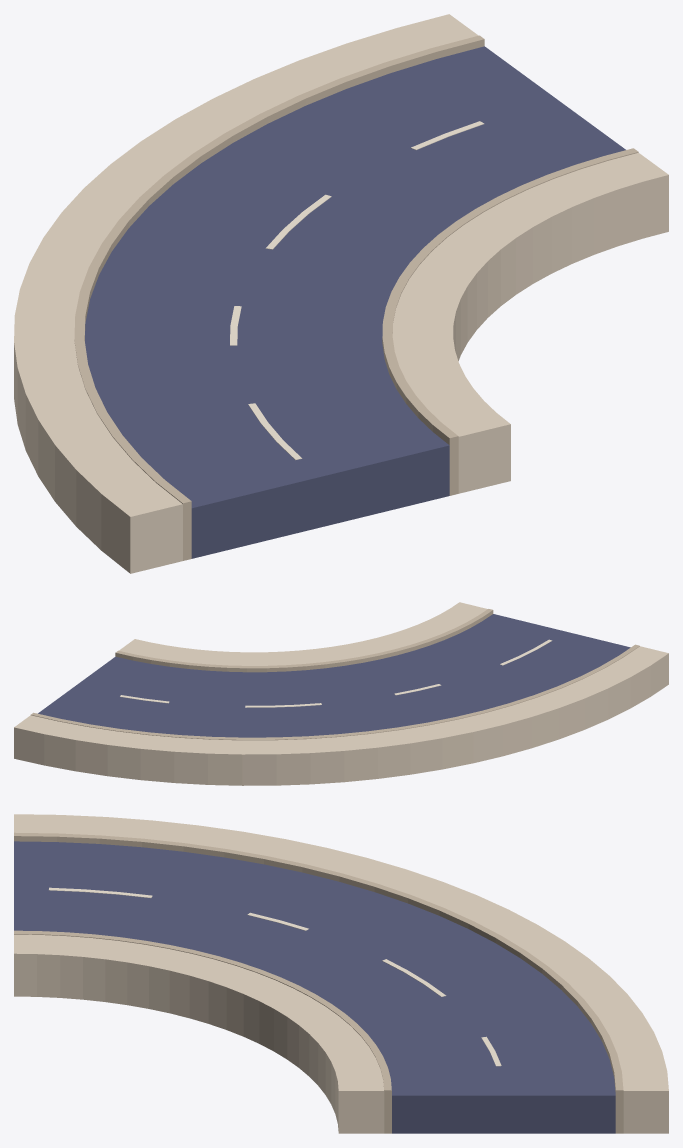
The model's file is road_curve.glb.
3 views of the same model, one above another, from view 1: azimuth 30°, elevation 25°; view 2: azimuth 150°, elevation 25°; view 3: azimuth 270°, elevation 25° (orthographic). The views are drawn at different scales.
Visible parts, largest first — view 1: road_curve; view 2: road_curve; view 3: road_curve.
Part boxes in pixels (x1,y1,x2,y2): road_curve: (14, 14, 668, 573); road_curve: (14, 602, 668, 785); road_curve: (14, 814, 668, 1133).
Size of the model in its own units: 18.72 by 1.37 by 18.72.
